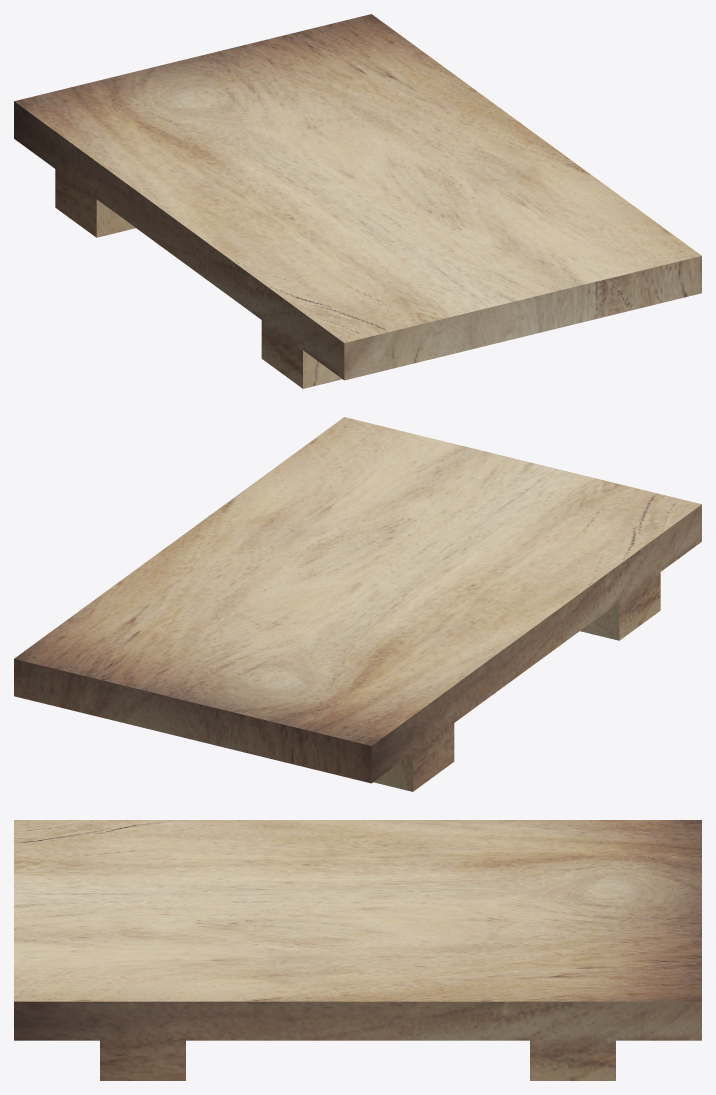
Rendered from geta.fbx.
The picture shows the model from 3 angles, top to bottom: view 1: azimuth 30°, elevation 25°; view 2: azimuth 150°, elevation 25°; view 3: azimuth 270°, elevation 25°; orthographic projection. The views are drawn at different scales.
Visible parts, largest first — view 1: geta; view 2: geta; view 3: geta.
Boxes of the visible parts, x1,y1,x2,y2 form: geta: [14, 14, 701, 388]; geta: [14, 417, 701, 791]; geta: [14, 820, 701, 1080].
Size of the model in its own units: 10 by 2.03 by 16.
